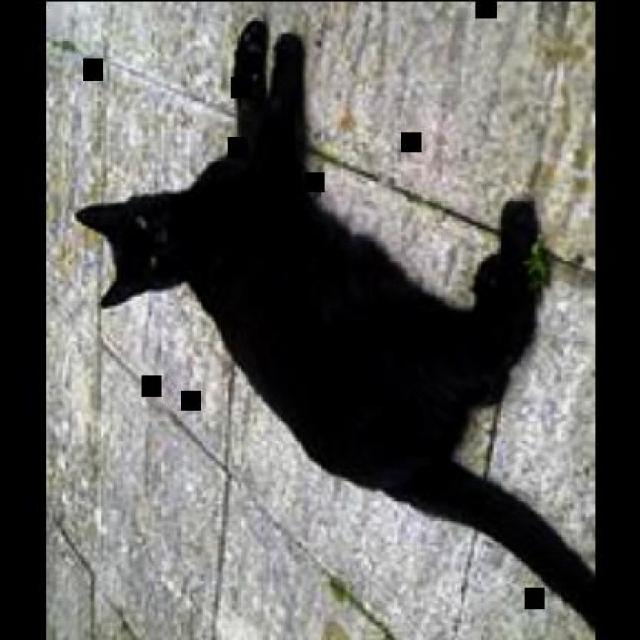unauthorized: (74, 19, 598, 638)
